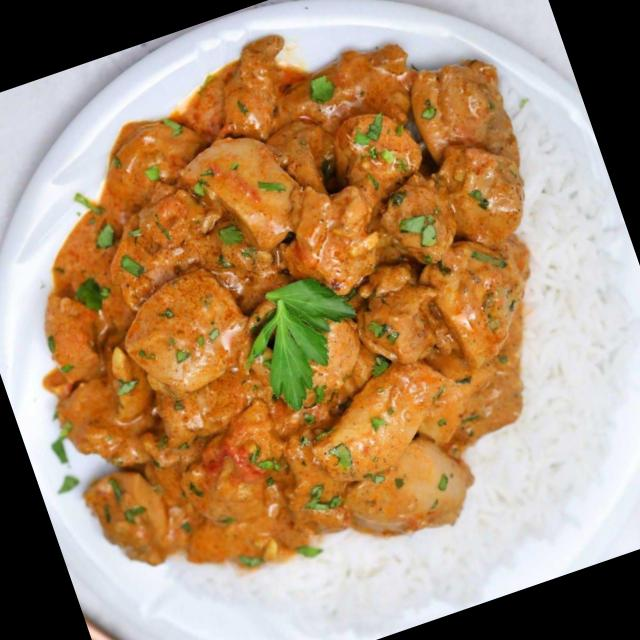chicken: (0, 20, 598, 566)
rice: (175, 85, 629, 632)
